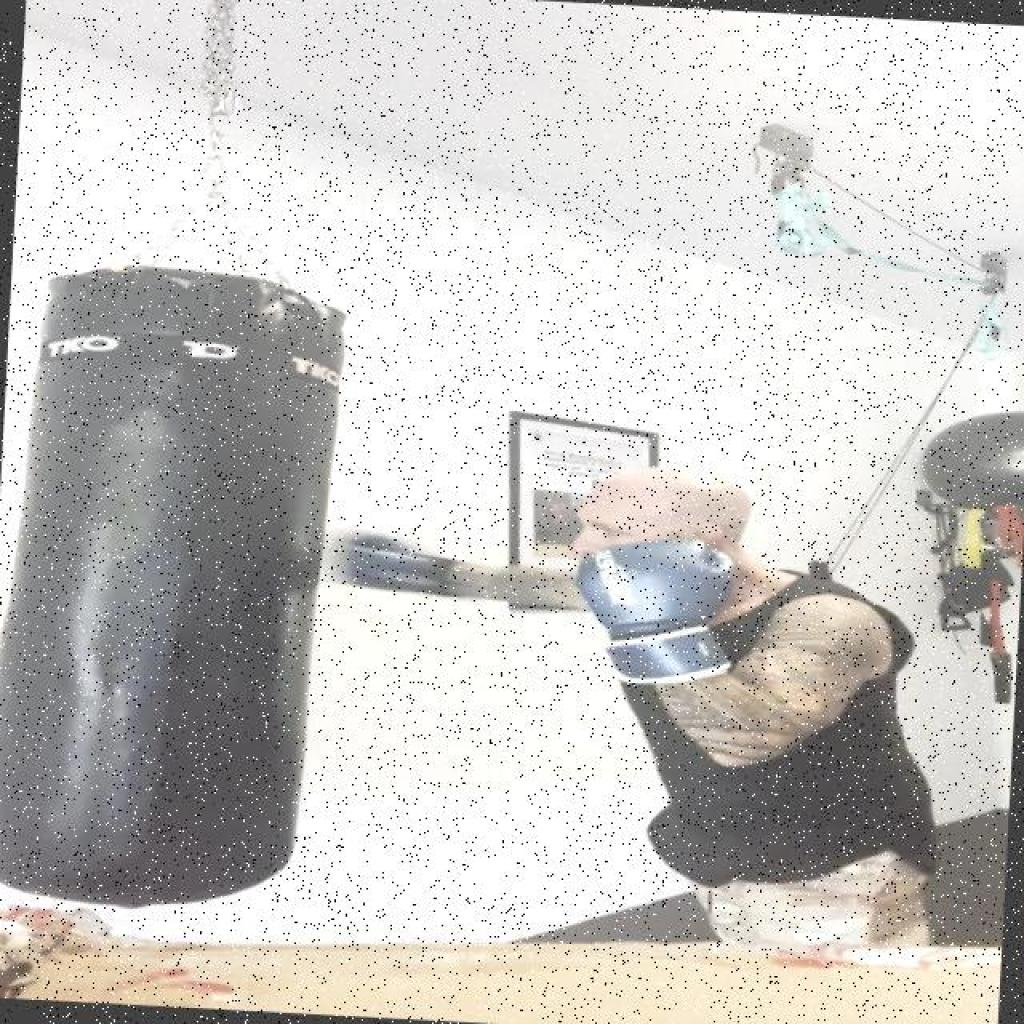bag: (0, 254, 333, 909)
hook: (326, 512, 612, 622)
